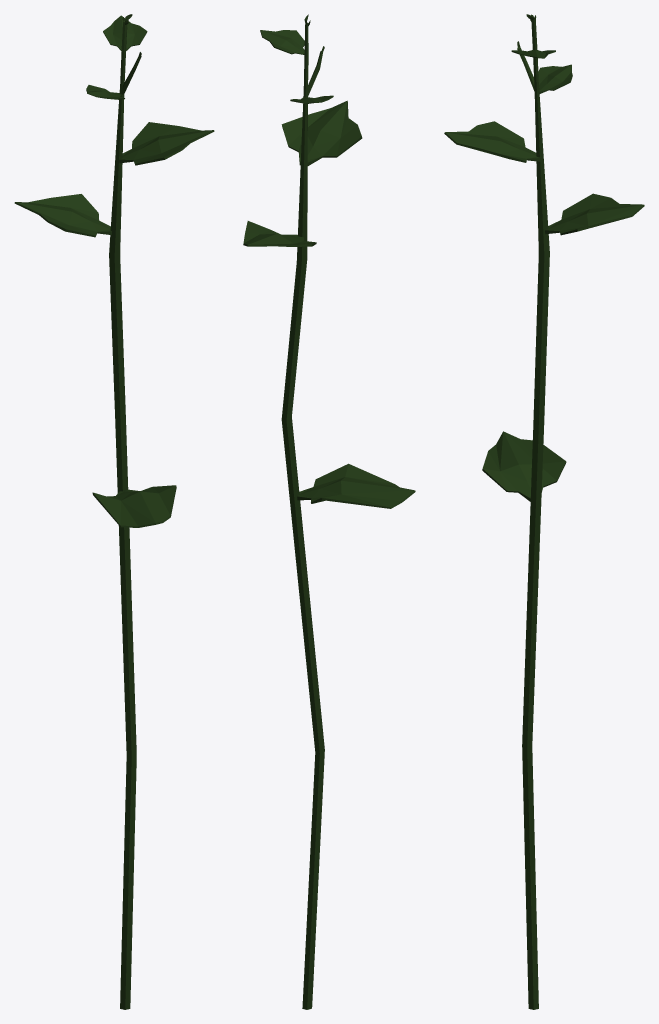
The picture shows the model from 3 angles, left to right: view 1: azimuth 90°, elevation 25°; view 2: azimuth 150°, elevation 25°; view 3: azimuth 270°, elevation 25°; orthographic projection.
Visible parts, largest first — view 1: 冬葵_polySurface16; view 2: 冬葵_polySurface16; view 3: 冬葵_polySurface16.
Boxes of the visible parts, x1,y1,x2,y2 form: 冬葵_polySurface16: (14,14,214,1009); 冬葵_polySurface16: (243,14,415,1009); 冬葵_polySurface16: (444,14,644,1009).
Size of the model in its own units: 5.92 by 7.4 by 40.53.
